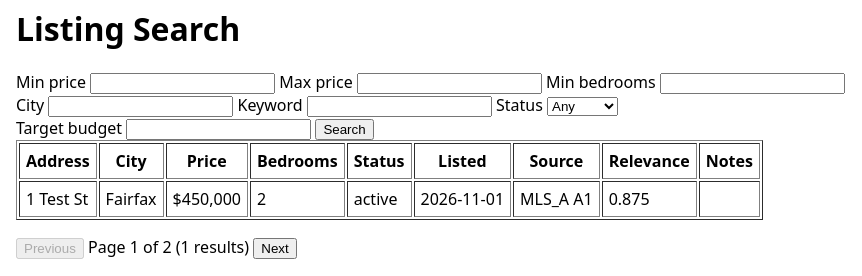
Test case: App › submitting the form resets to page 1
Click the button "Next": (275,249) [253,238,297,259]
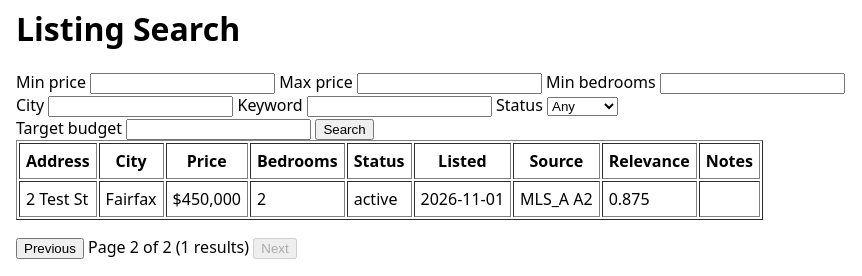
Check: the text "Previous Page 2 of 2 (1 results) Next" is shown, box [16,236,297,259]
In the field labelled "Keyword": (399,107) [307,96,492,117], type "pool"
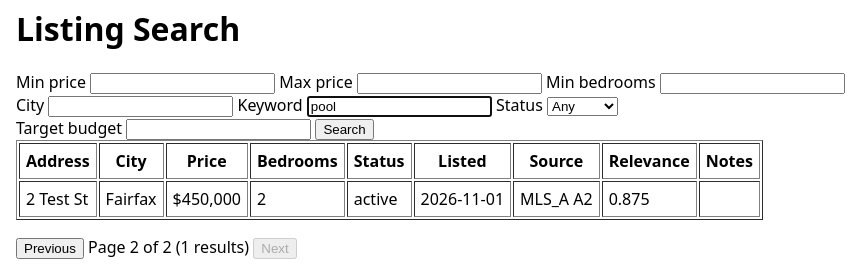
Click the button "Search": (344,130) [315,119,374,140]
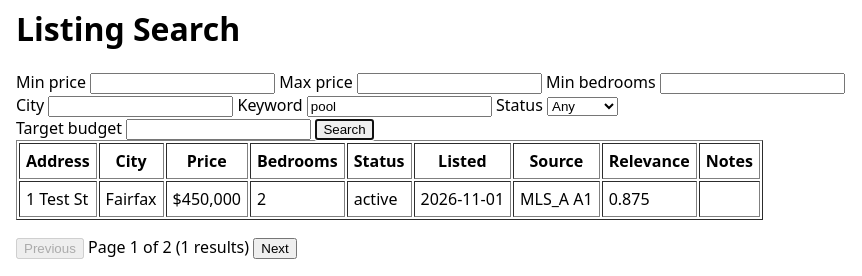
Check: the text "Previous Page 1 of 2 (1 results) Next" is shown, box [16,236,297,259]
